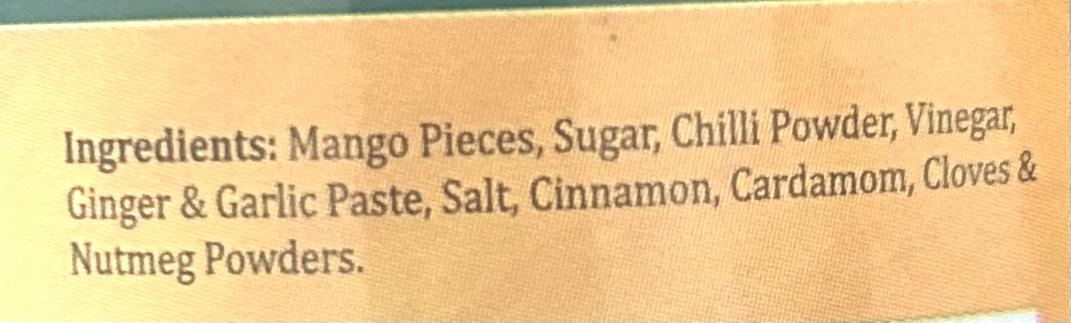ingredients: (40, 88, 1049, 288)
